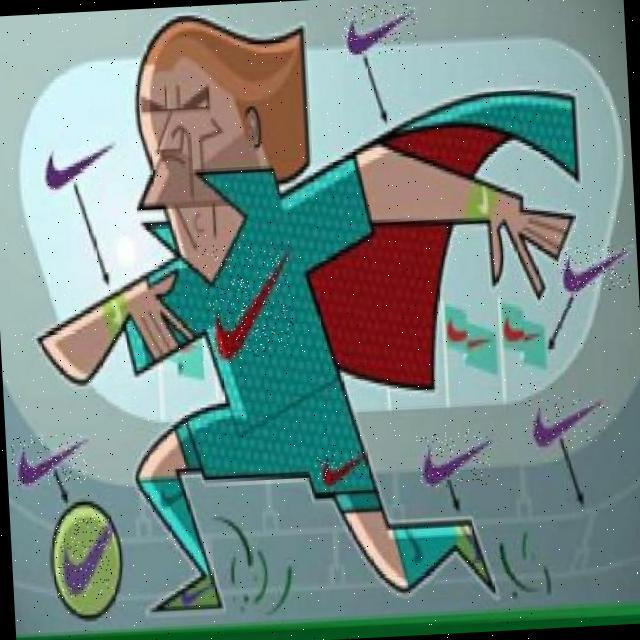Nike: (202, 242, 296, 360), (53, 513, 113, 598), (416, 430, 493, 488), (528, 393, 612, 445), (11, 433, 88, 488), (342, 4, 419, 56), (41, 136, 117, 188), (555, 244, 631, 293), (315, 449, 366, 485)
